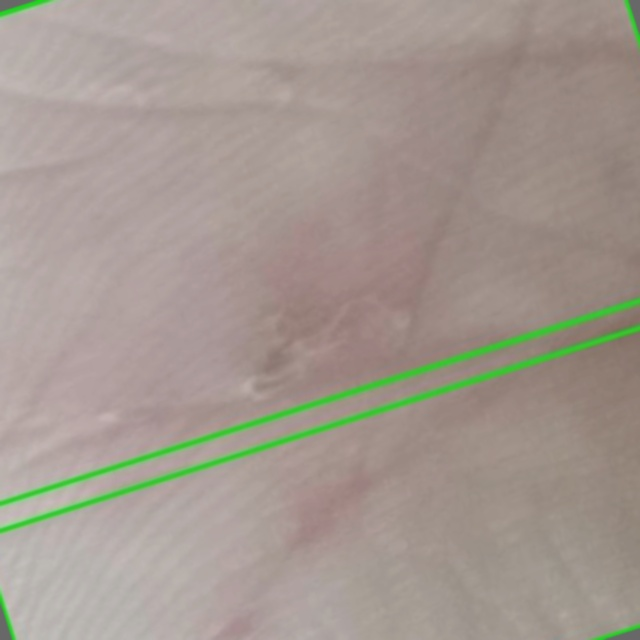Scabies: (0, 0, 639, 529), (0, 301, 639, 639)
